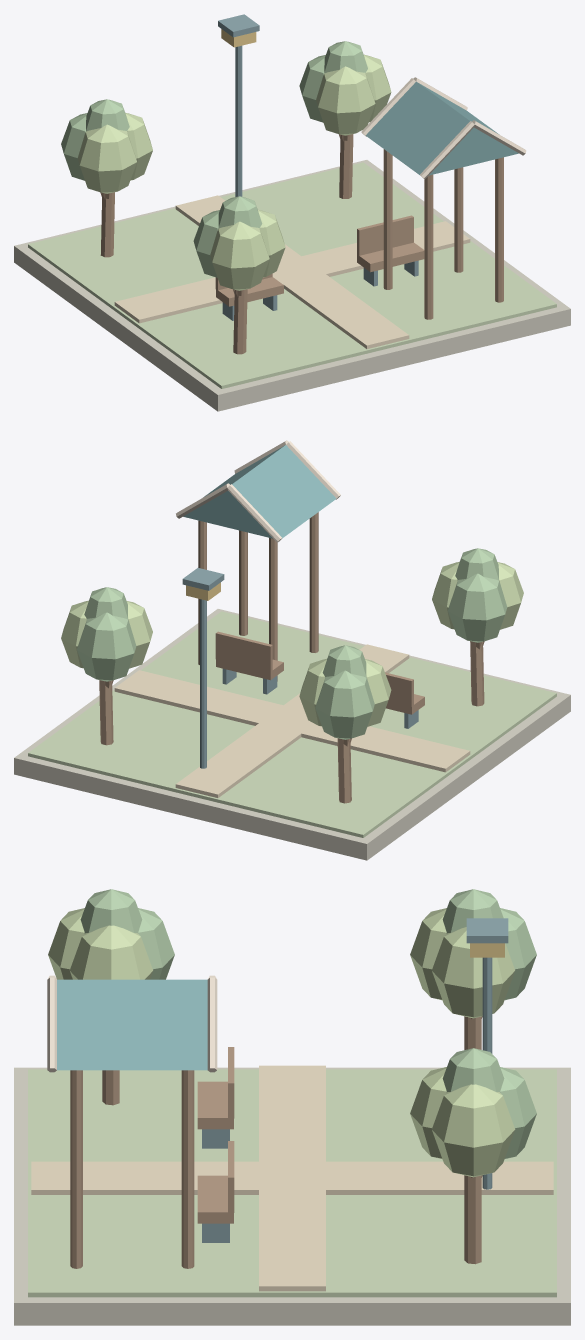
The model's file is dot-tpl-park.glb.
The picture shows the model from 3 angles, top to bottom: view 1: azimuth 30°, elevation 25°; view 2: azimuth 150°, elevation 25°; view 3: azimuth 270°, elevation 25°; orthographic projection. The views are drawn at different scales.
Parts seen in each view (by area): view 1: paving; view 2: paving; view 3: paving.
Boxes of the visible parts, left/top/right/bottom form: paving: left=14, top=14, right=570, bottom=411; paving: left=14, top=440, right=570, bottom=860; paving: left=14, top=889, right=570, bottom=1325.
Bounding box in the file's own units: 4 × 2.32 × 4.
1 material, 1 textured.
